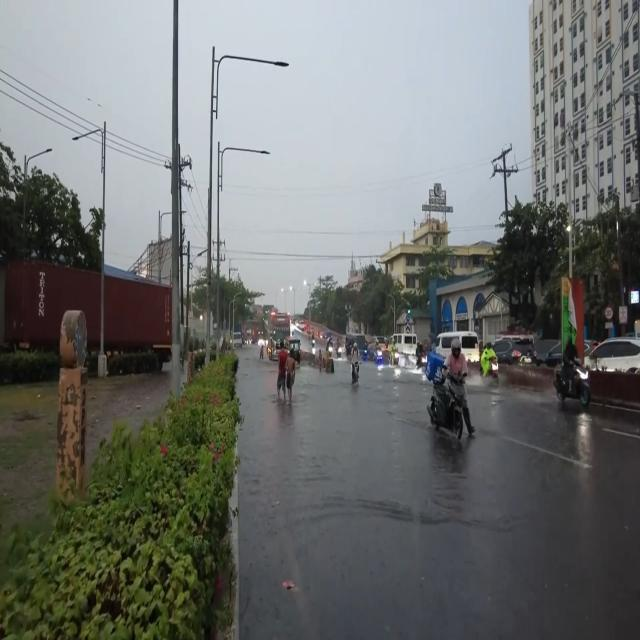half: (451, 339, 462, 361)
